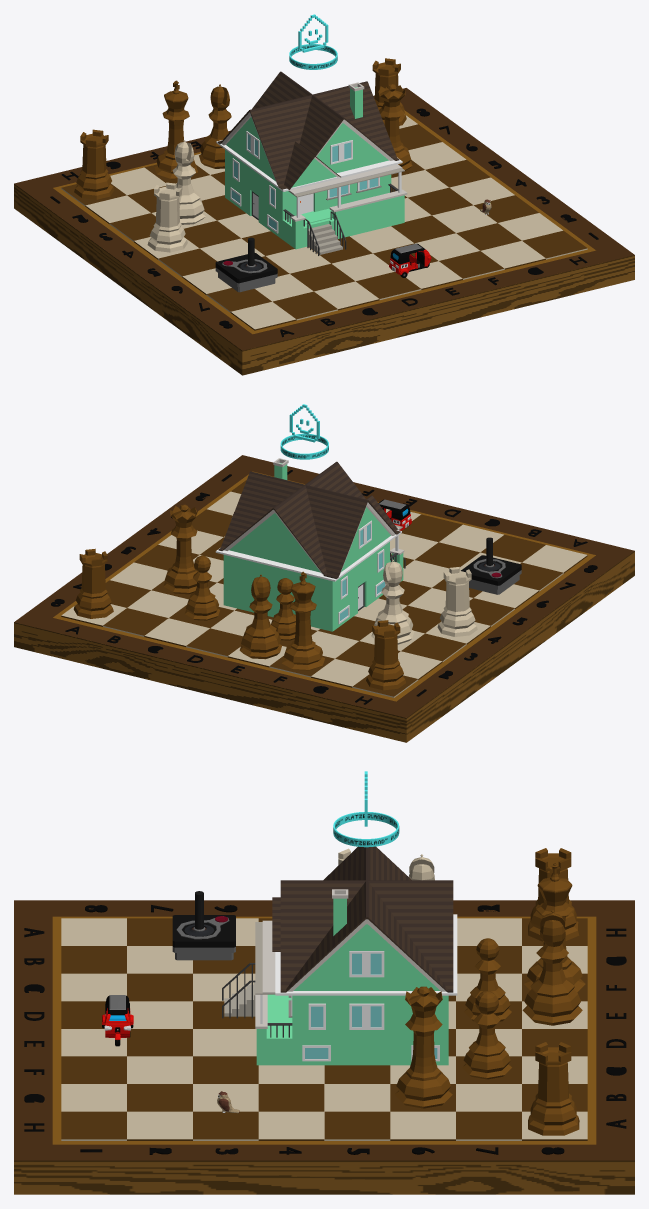
3 views of the same model, one above another, from view 1: azimuth 30°, elevation 25°; view 2: azimuth 150°, elevation 25°; view 3: azimuth 270°, elevation 25° (orthographic). The views are drawn at different scales.
Visible parts, largest first — view 1: Cube.002, Cube.352, OBJRANDOM_JOYSTICK, TYPE_PREMIUM, VEHICLES_TUC_TUC; view 2: Cube.002, Cube.352, OBJRANDOM_JOYSTICK, TYPE_PREMIUM, VEHICLES_TUC_TUC; view 3: Cube.002, Cube.352, OBJRANDOM_JOYSTICK, TYPE_PREMIUM, VEHICLES_TUC_TUC.
Boxes of the visible parts, x1,y1,x2,y2 form: Cube.002: (14, 58, 634, 375); Cube.352: (216, 71, 407, 255); OBJRANDOM_JOYSTICK: (215, 237, 277, 292); TYPE_PREMIUM: (289, 14, 337, 69); VEHICLES_TUC_TUC: (389, 243, 431, 277); Cube.002: (14, 455, 634, 742); Cube.352: (215, 458, 405, 631); OBJRANDOM_JOYSTICK: (461, 537, 521, 594); TYPE_PREMIUM: (280, 404, 328, 459); VEHICLES_TUC_TUC: (378, 499, 411, 530); Cube.002: (14, 848, 634, 1194); Cube.352: (222, 846, 457, 1065); OBJRANDOM_JOYSTICK: (172, 891, 235, 960); TYPE_PREMIUM: (333, 771, 399, 847); VEHICLES_TUC_TUC: (102, 995, 133, 1046).
Bounding box in the file's own units: 3981 × 2279 × 4012.
43 materials, 3 textured.
